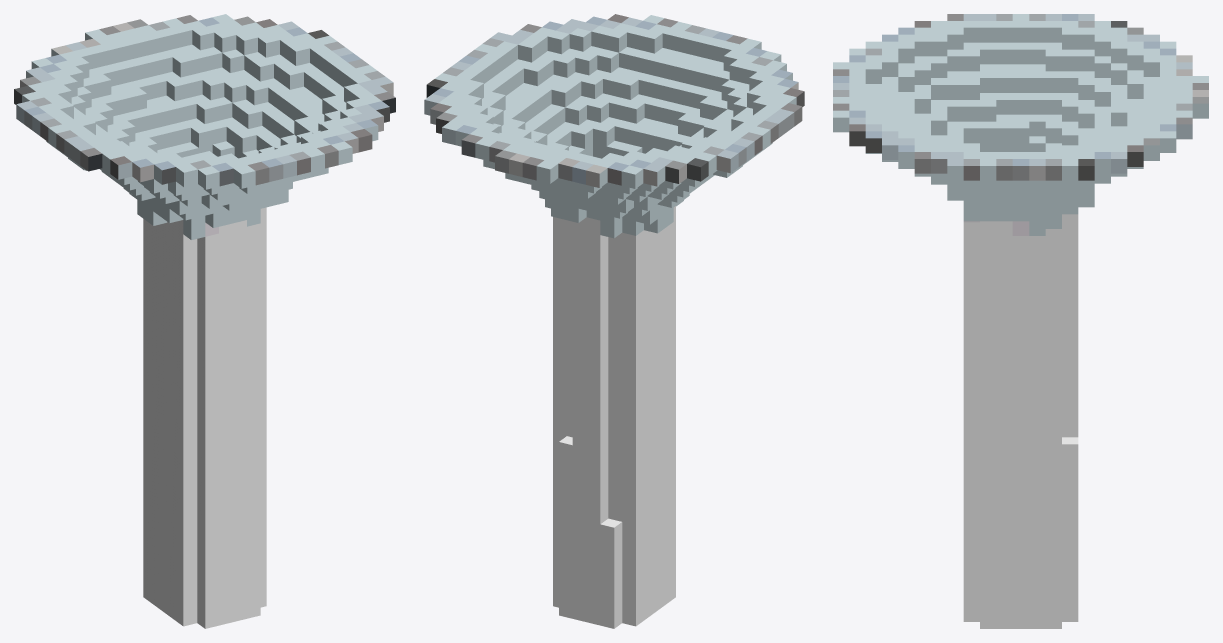
Rendered from rotor_glass.obj.
The picture shows the model from 3 angles, left to right: view 1: azimuth 30°, elevation 25°; view 2: azimuth 150°, elevation 25°; view 3: azimuth 270°, elevation 25°; orthographic projection. The views are drawn at different scales.
Visible parts, largest first — view 1: rotor_glass; view 2: rotor_glass; view 3: rotor_glass.
Part boxes in pixels (x1,y1,x2,y2): rotor_glass: (14,14,395,628); rotor_glass: (424,14,804,628); rotor_glass: (833,14,1208,628).
Size of the model in its own units: 2.75 by 4.38 by 2.88.
Materials: 1 (1 with a texture image).
